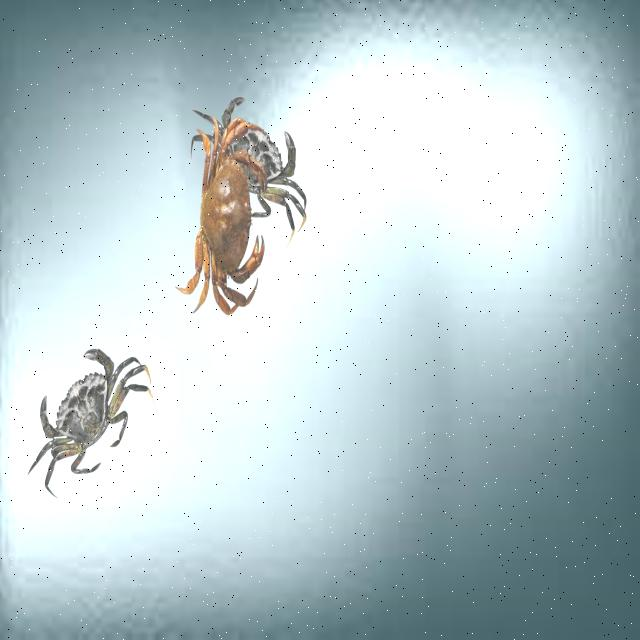European_Green_Crab: (8, 313, 164, 525), (174, 67, 327, 256)
